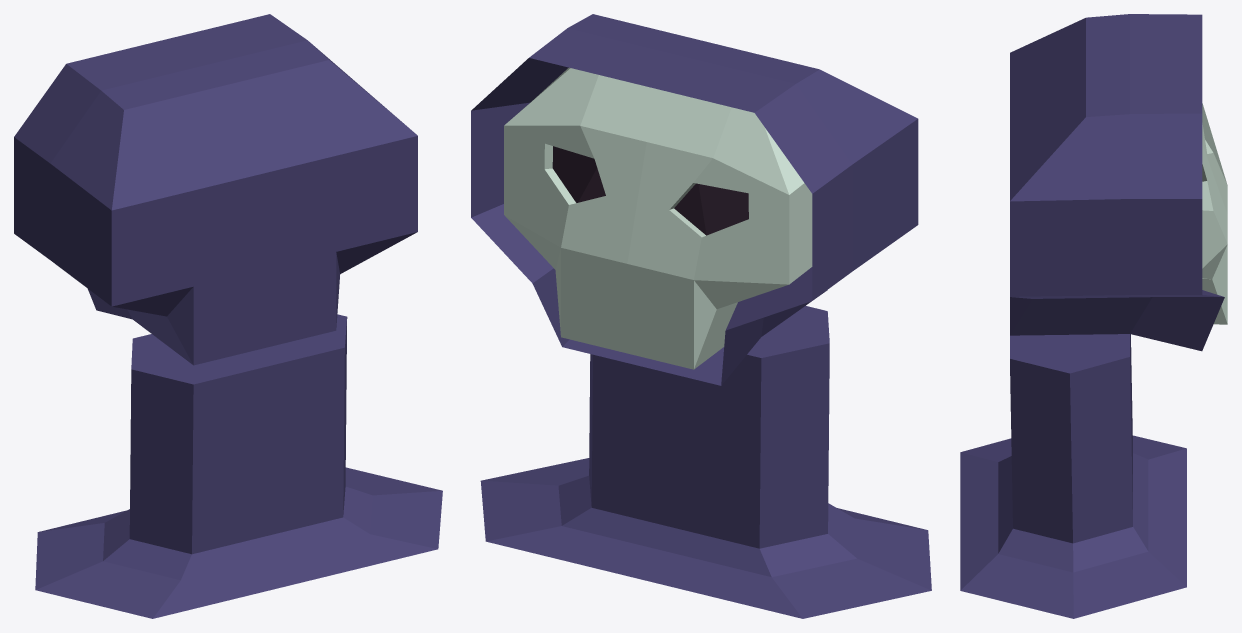
The model's file is Player 1.obj.
3 views of the same model, side by side, from view 1: azimuth 30°, elevation 25°; view 2: azimuth 150°, elevation 25°; view 3: azimuth 270°, elevation 25° (orthographic). The views are drawn at different scales.
Visible parts, largest first — view 1: Lich_Cube.035; view 2: Lich_Cube.035; view 3: Lich_Cube.035.
Part boxes in pixels (x1,y1,x2,y2): Lich_Cube.035: (14,14,442,618); Lich_Cube.035: (471,14,931,618); Lich_Cube.035: (960,14,1227,618).
Bounding box in the file's own units: 1.76 × 1.88 × 1.
